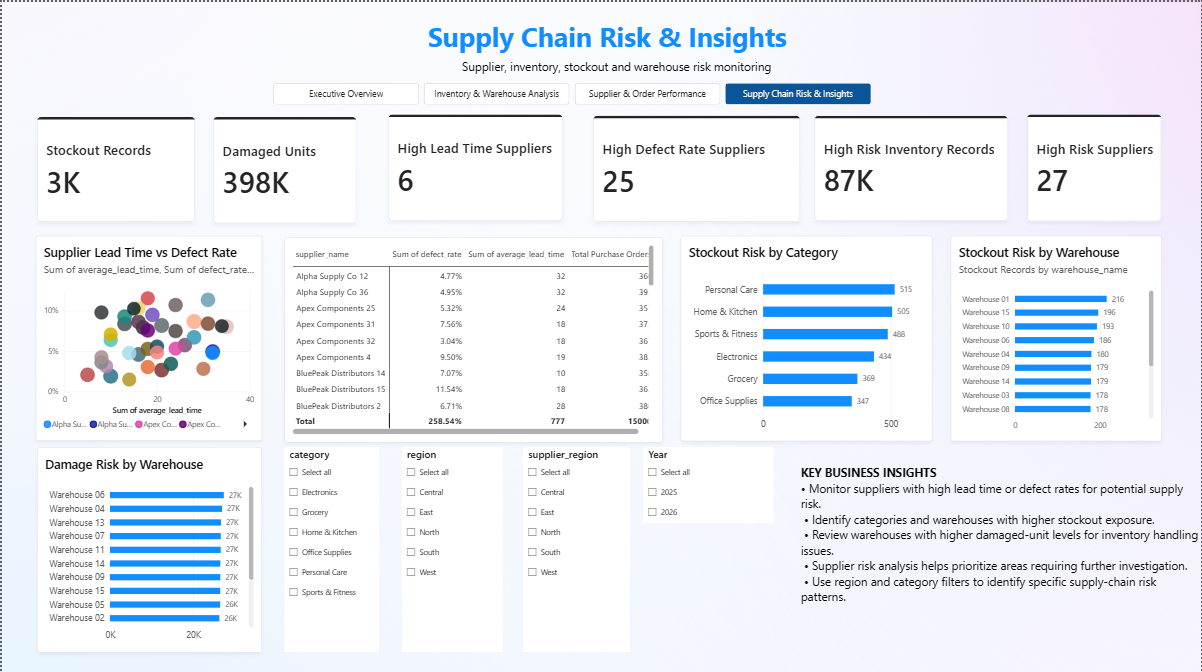

This screenshot's page, from the dashboard's own definition file:
{"tool":"powerbi","page":{"name":"Supply Chain Risk & Insights ","canvas":[1920,1080],"ordinal":3},"visuals":[{"type":"cardVisual","fields":{"Data":["inventory.Stockout Records"]},"box":[55.6,184.4,253.1,168.8],"z":0},{"type":"cardVisual","fields":{"Data":["inventory.Damaged Units"]},"box":[337.8,184.4,229.7,170.3],"z":1000},{"type":"cardVisual","fields":{"Data":["inventory.High Risk Inventory Records"]},"box":[1300,181.2,309.4,168.8],"z":2000},{"type":"clusteredBarChart","title":"Stockout Risk by Category","fields":{"Category":["products.category"],"Y":["inventory.Stockout Records"]},"box":[1086.7,373.3,402.2,328.9],"z":3000},{"type":"clusteredBarChart","title":"Stockout Risk by Warehouse","fields":{"Category":["warehouses.warehouse_name"],"Y":["inventory.Stockout Records"]},"box":[1517.8,373.3,337.8,328.9],"z":4000},{"type":"scatterChart","title":"Supplier Lead Time vs Defect Rate","fields":{"Y":["Sum(suppliers.defect_rate)"],"Series":["suppliers.supplier_name"],"Size":["supplier_orders.Total Purchase Orders"],"X":["Sum(suppliers.average_lead_time)"]},"box":[53.1,373.4,362.5,328.1],"z":5000},{"type":"textbox","box":[115.6,25,1704.7,78.1],"z":7000},{"type":"cardVisual","fields":{"Data":["suppliers.High Lead Time Suppliers"]},"box":[617.2,179.7,279.7,170.3],"z":8000},{"type":"cardVisual","fields":{"Data":["suppliers.High Defect Rate Suppliers"]},"box":[946.9,181.2,331.2,170.3],"z":8001},{"type":"cardVisual","fields":{"Data":["suppliers.High Risk Suppliers"]},"box":[1640,180,215.6,171.1],"z":8002},{"type":"clusteredBarChart","title":"Damage Risk by Warehouse","fields":{"Category":["warehouses.warehouse_name"],"Y":["inventory.Damaged Units"]},"box":[55.6,711.1,360,328.9],"z":8004},{"type":"slicer","fields":{"Values":["DateTable.Year"]},"box":[1026.7,711.1,207.8,121.9],"z":8005},{"type":"slicer","fields":{"Values":["products.category"]},"box":[451.1,711.1,151.6,328.1],"z":8006},{"type":"slicer","fields":{"Values":["warehouses.region"]},"box":[640,711.1,161,328],"z":8007},{"type":"slicer","fields":{"Values":["suppliers.supplier_region"]},"box":[833.3,711.1,170.3,328.1],"z":8008},{"type":"textbox","box":[1277.8,740,642.2,340],"z":8009},{"type":"textbox","box":[656.2,90.6,654.7,40.6],"z":8010},{"type":"pivotTable","fields":{"Rows":["suppliers.supplier_name"],"Values":["Sum(suppliers.defect_rate)","Sum(suppliers.average_lead_time)","supplier_orders.Total Purchase Orders"]},"box":[451.1,375.6,604.4,328.9],"z":8011},{"type":"pageNavigator","box":[434,130,956,34],"z":8012}]}

Visuals, with their boxes in screenshot pixels (x1, y1, x2, y2), scaled from the page's 1920x1080 canvas onto the 1202x672 screenshot:
cardVisual - inventory.Stockout Records: <bbox>35, 115, 193, 220</bbox>
cardVisual - inventory.Damaged Units: <bbox>211, 115, 355, 221</bbox>
cardVisual - inventory.High Risk Inventory Records: <bbox>814, 113, 1008, 218</bbox>
"Stockout Risk by Category" clusteredBarChart: <bbox>680, 232, 932, 437</bbox>
"Stockout Risk by Warehouse" clusteredBarChart: <bbox>950, 232, 1162, 437</bbox>
"Supplier Lead Time vs Defect Rate" scatterChart: <bbox>33, 232, 260, 436</bbox>
textbox: <bbox>72, 16, 1140, 64</bbox>
cardVisual - suppliers.High Lead Time Suppliers: <bbox>386, 112, 561, 218</bbox>
cardVisual - suppliers.High Defect Rate Suppliers: <bbox>593, 113, 800, 219</bbox>
cardVisual - suppliers.High Risk Suppliers: <bbox>1027, 112, 1162, 218</bbox>
"Damage Risk by Warehouse" clusteredBarChart: <bbox>35, 442, 260, 647</bbox>
slicer - DateTable.Year: <bbox>643, 442, 773, 518</bbox>
slicer - products.category: <bbox>282, 442, 377, 647</bbox>
slicer - warehouses.region: <bbox>401, 442, 501, 647</bbox>
slicer - suppliers.supplier_region: <bbox>522, 442, 628, 647</bbox>
textbox: <bbox>800, 460, 1201, 671</bbox>
textbox: <bbox>411, 56, 821, 82</bbox>
pivotTable - suppliers.supplier_name x Sum(suppliers.defect_rate): <bbox>282, 234, 661, 438</bbox>
pageNavigator: <bbox>272, 81, 870, 102</bbox>
